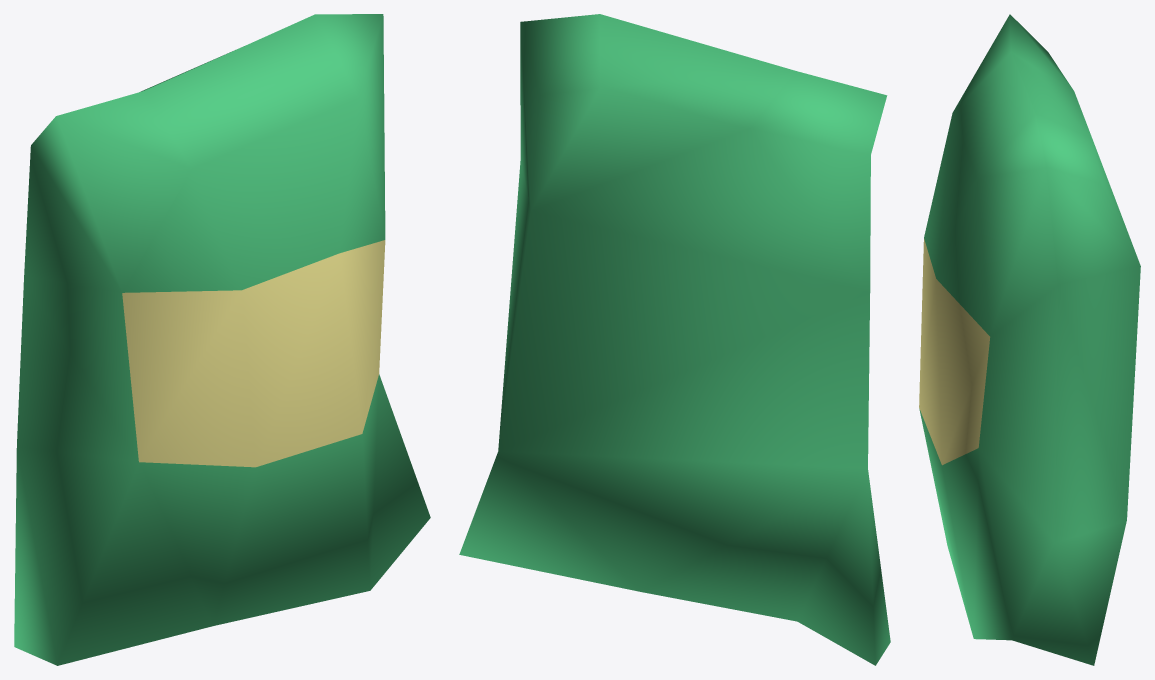
File: shop_080.glb
The picture shows the model from 3 angles, left to right: view 1: azimuth 30°, elevation 25°; view 2: azimuth 150°, elevation 25°; view 3: azimuth 270°, elevation 25°; orthographic projection. The views are drawn at different scales.
Visible parts, largest first — view 1: shop_080; view 2: shop_080; view 3: shop_080.
Part boxes in pixels (x1=…): shop_080: x1=14, y1=14, x2=430, y2=665; shop_080: x1=459, y1=14, x2=890, y2=665; shop_080: x1=919, y1=14, x2=1140, y2=665.
Size of the model in its own units: 0.2128 by 0.2932 by 0.1113.
Materials: 1 (1 with a texture image).
